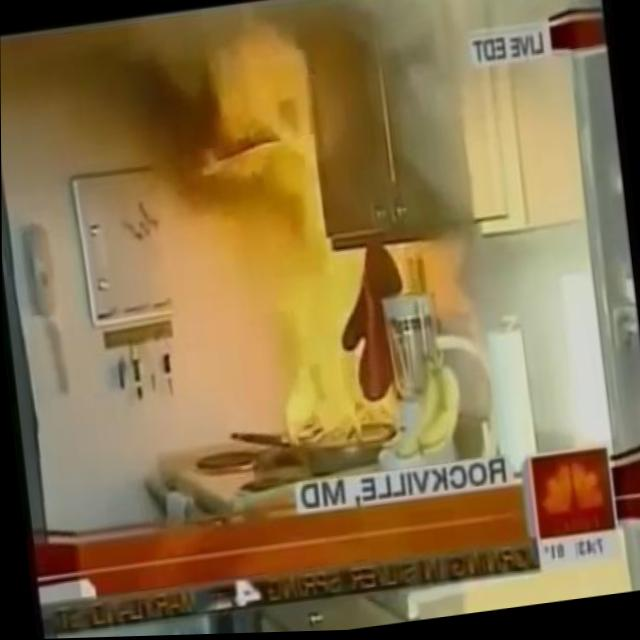fire: (191, 10, 412, 465)
